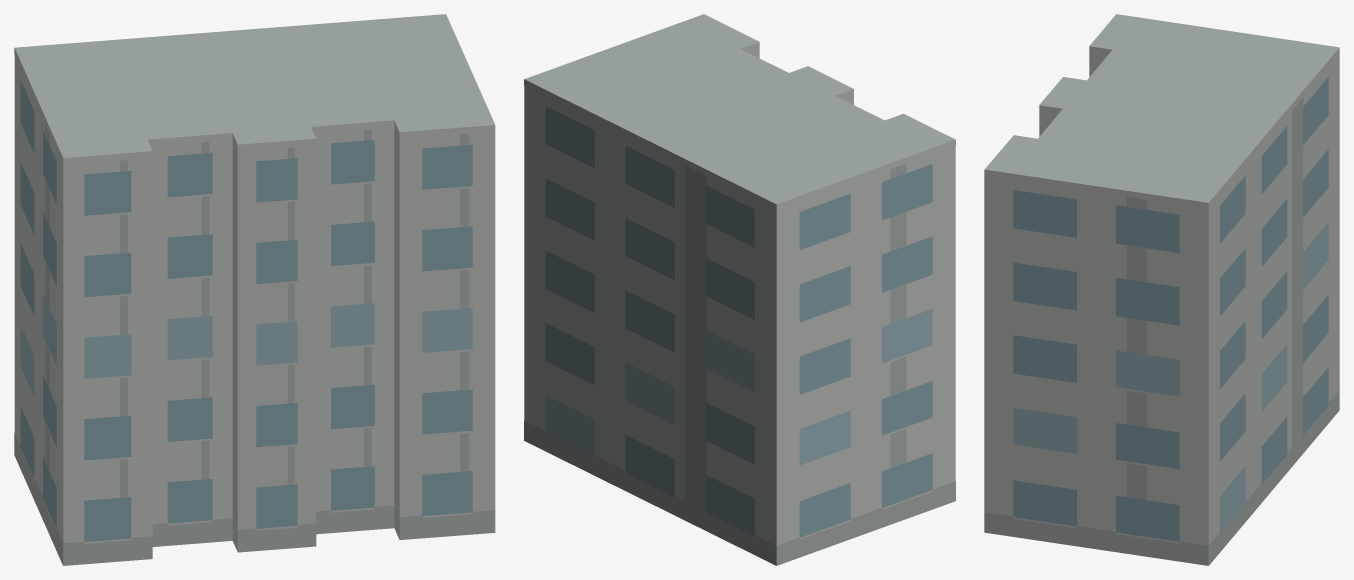
The model's file is survey-upis-32894341.glb.
The picture shows the model from 3 angles, left to right: view 1: azimuth 30°, elevation 25°; view 2: azimuth 150°, elevation 25°; view 3: azimuth 270°, elevation 25°; orthographic projection. The views are drawn at different scales.
Visible parts, largest first — view 1: survey-upis-32894341.tmp; view 2: survey-upis-32894341.tmp; view 3: survey-upis-32894341.tmp.
Part boxes in pixels (<box>): survey-upis-32894341.tmp: <box>14,14,495,565</box>; survey-upis-32894341.tmp: <box>524,14,955,565</box>; survey-upis-32894341.tmp: <box>984,14,1339,565</box>.
Size of the model in its own units: 15.8 by 14.15 by 12.55.
